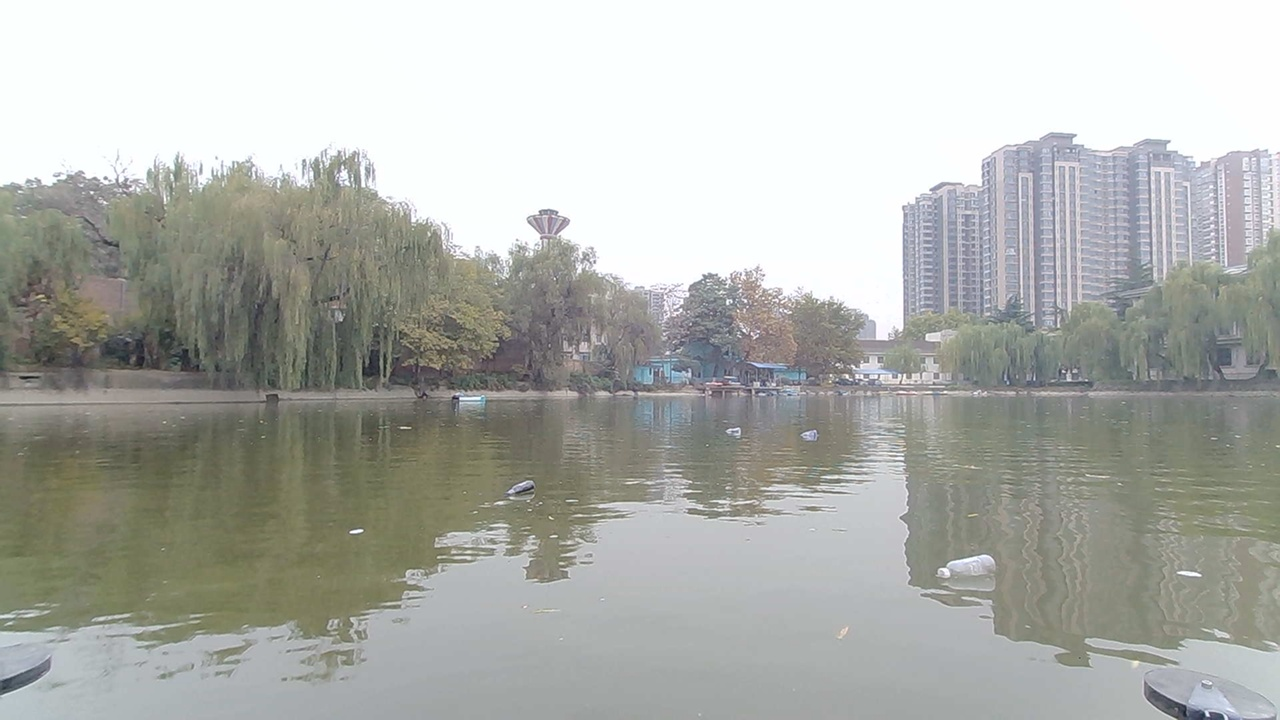bottle: (928, 544, 1006, 599), (508, 480, 538, 502), (794, 427, 827, 444), (723, 419, 745, 438)
